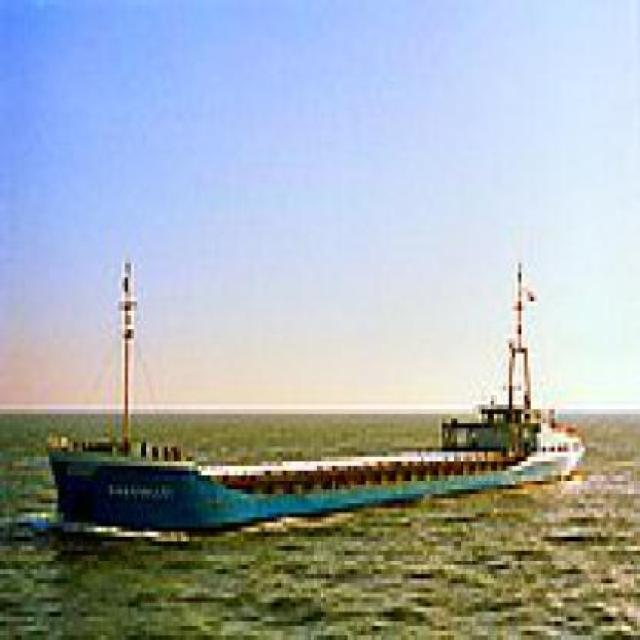container: (41, 279, 587, 537)
